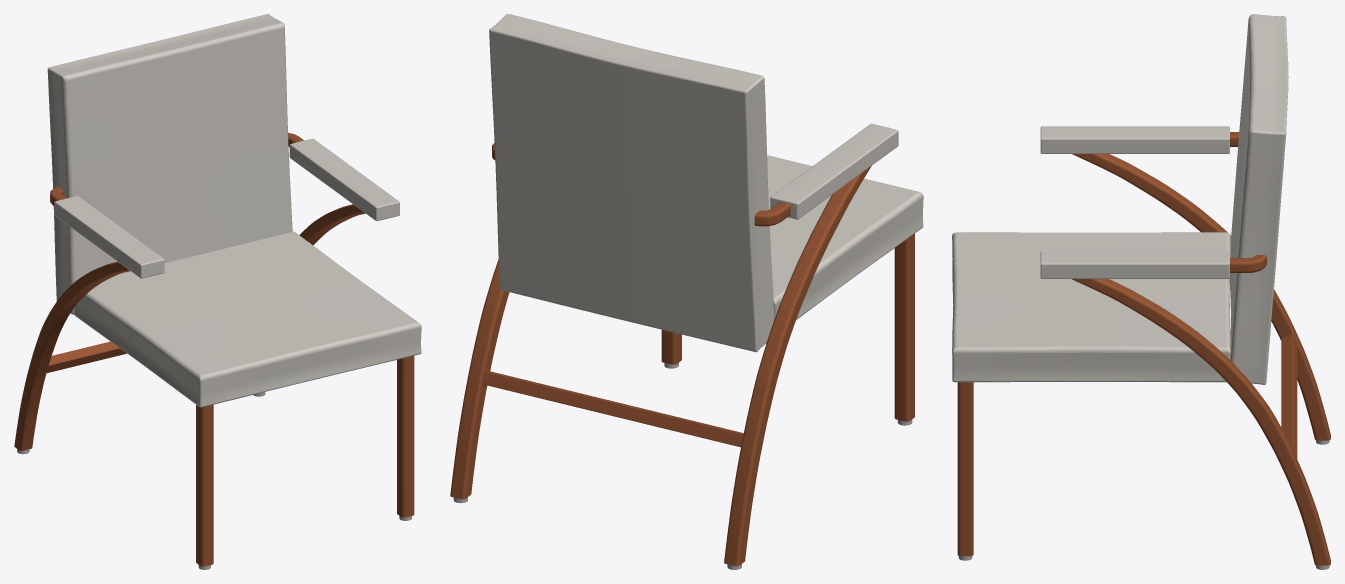
File: tourLounge_chair.fbx
3 views of the same model, side by side, from view 1: azimuth 30°, elevation 25°; view 2: azimuth 150°, elevation 25°; view 3: azimuth 270°, elevation 25° (orthographic). The views are drawn at different scales.
Visible parts, largest first — view 1: polySurface19; view 2: polySurface19; view 3: polySurface19.
Part boxes in pixels (<box>): polySurface19: <box>14,14,421,569</box>; polySurface19: <box>450,14,923,569</box>; polySurface19: <box>952,14,1330,569</box>.
Size of the model in its own units: 30.42 by 44.44 by 35.29.
